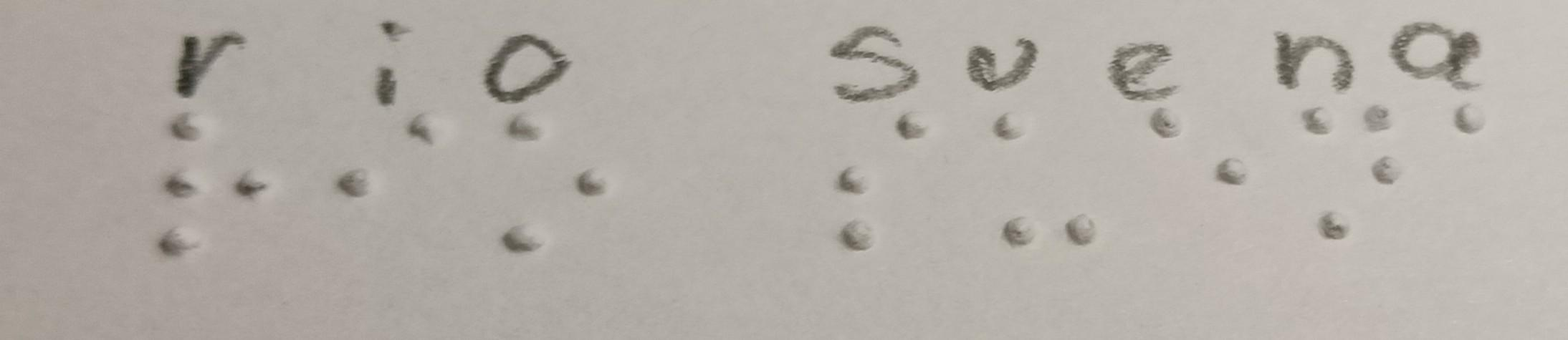a: (1428, 95, 1519, 163)
e: (1114, 104, 1265, 224)
i: (308, 106, 469, 225)
n: (1267, 104, 1431, 252)
o: (477, 102, 643, 274)
r: (134, 107, 294, 265)
s: (812, 107, 959, 258)
u: (957, 106, 1114, 265)
